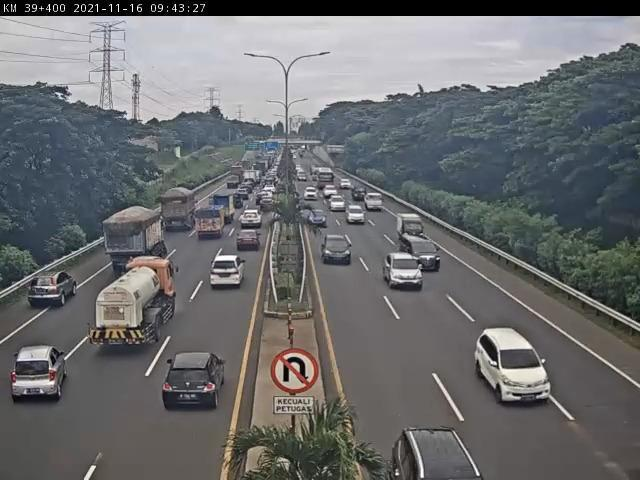car: (402, 418, 476, 480), (492, 328, 550, 398), (164, 352, 227, 412), (9, 349, 66, 411), (18, 266, 73, 317), (387, 254, 425, 290), (212, 252, 244, 292), (413, 242, 442, 268), (400, 211, 424, 237), (235, 230, 257, 252), (329, 239, 349, 263), (241, 210, 262, 228), (366, 193, 384, 210), (311, 209, 328, 226), (349, 206, 365, 224), (352, 185, 368, 202), (325, 184, 339, 199), (331, 196, 345, 210), (262, 197, 273, 214), (306, 187, 318, 200)
truck: (91, 255, 181, 352), (102, 206, 172, 274), (161, 189, 194, 234), (194, 204, 222, 243), (209, 196, 235, 227)
